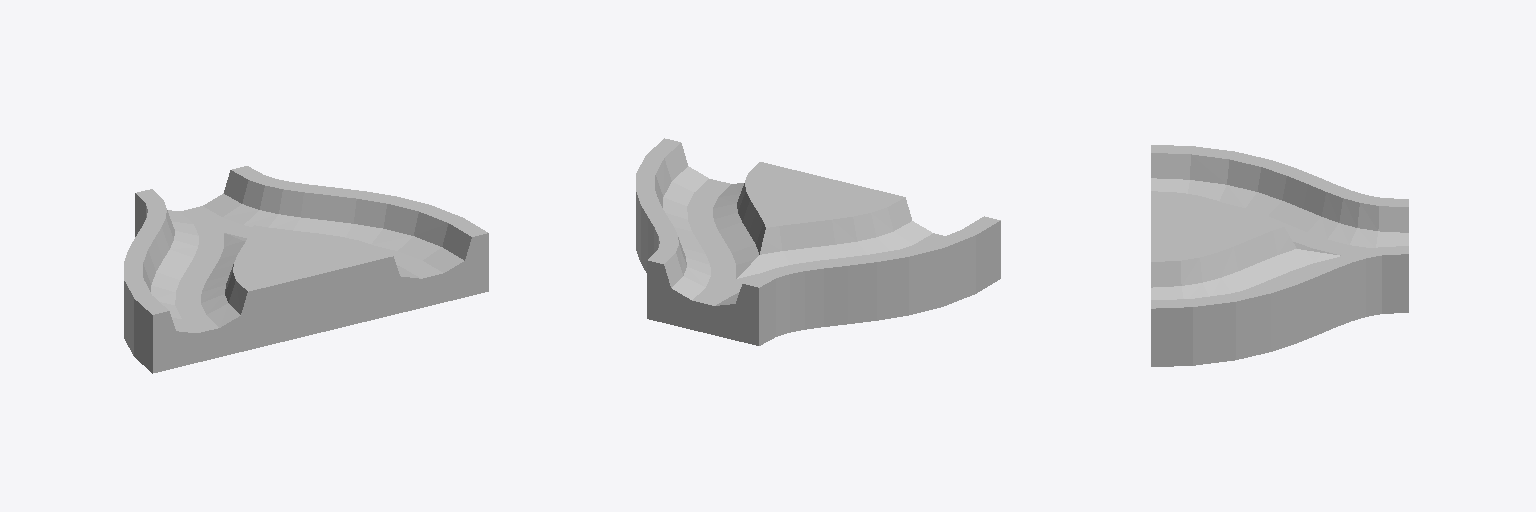
The model's file is split-double-solid.obj.
3 renders of one model, left to right at view 1: azimuth 30°, elevation 25°; view 2: azimuth 150°, elevation 25°; view 3: azimuth 270°, elevation 25°, orthographic.
Parts seen in each view (by area): view 1: split-double-solid; view 2: split-double-solid; view 3: split-double-solid.
Boxes of the visible parts, box(x1,y1,x2,y2) form: split-double-solid: box(124, 166, 488, 373); split-double-solid: box(636, 138, 1000, 345); split-double-solid: box(1151, 145, 1408, 366).
Bounding box in the file's own units: 3 × 0.5 × 2.